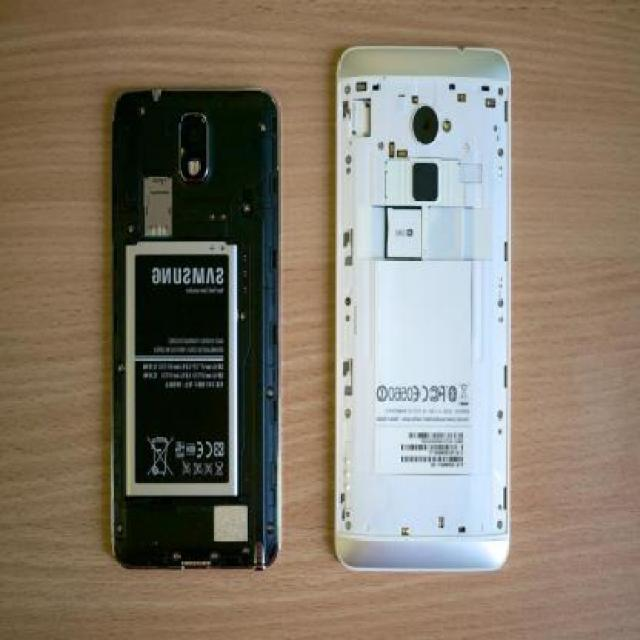phone: (333, 42, 511, 574), (113, 88, 282, 574)
